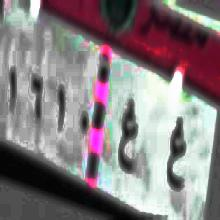0: (78, 100, 91, 148)
1: (52, 75, 73, 141), (5, 58, 19, 116)
6: (27, 74, 47, 123)
ghayn: (116, 94, 140, 176), (167, 113, 187, 200)
